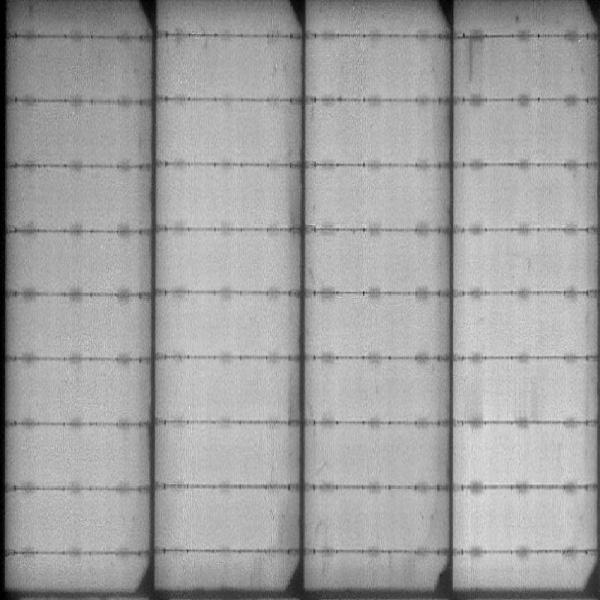scratch: (465, 37, 479, 80)
